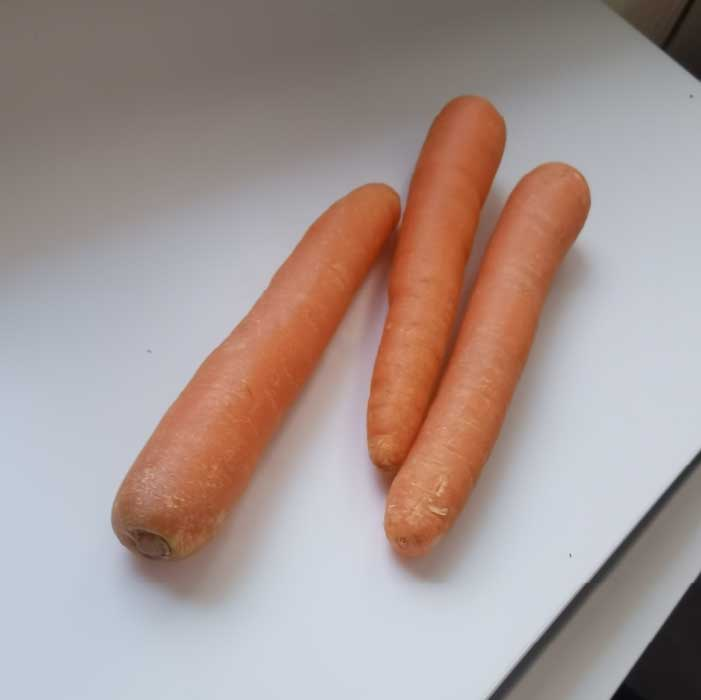Karotte: (111, 183, 402, 561), (385, 162, 592, 557), (366, 94, 507, 470)
